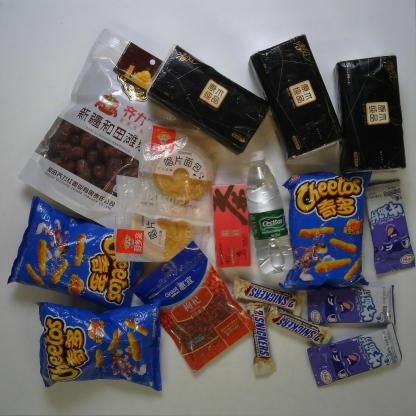Candy: (306, 324, 403, 388), (364, 178, 415, 274), (306, 283, 396, 327)
Chocolate: (231, 274, 305, 317), (266, 303, 334, 347), (244, 302, 278, 378)
Dessert: (131, 118, 223, 227), (114, 173, 211, 263)
Dried Food: (17, 26, 186, 232)
Dried Fruit: (129, 238, 257, 374)
Drink: (245, 150, 295, 276)
Instant Drink: (211, 183, 251, 268)
Puffed Food: (7, 195, 143, 311), (34, 301, 162, 392), (278, 171, 369, 291)
Tissue: (146, 45, 271, 155), (248, 33, 342, 162), (332, 54, 407, 176)
